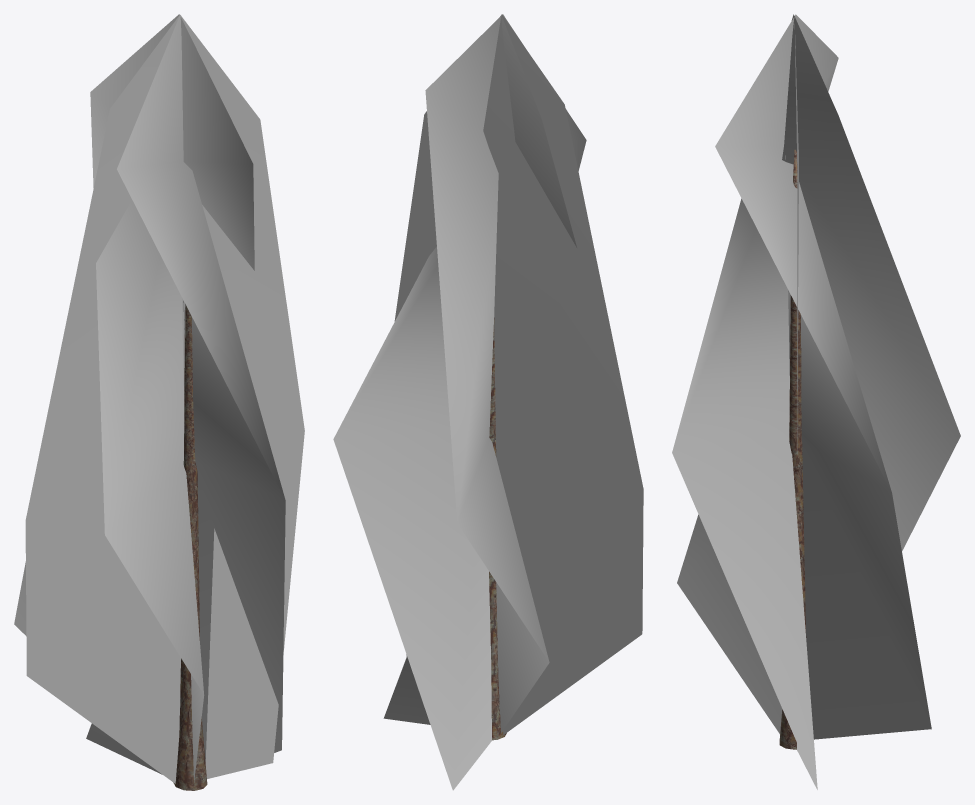
File: Fol_SprucePlateB.FBX
The picture shows the model from 3 angles, left to right: view 1: azimuth 30°, elevation 25°; view 2: azimuth 150°, elevation 25°; view 3: azimuth 270°, elevation 25°; orthographic projection. The views are drawn at different scales.
Visible parts, largest first — view 1: Spruce_Plate_2, Trunk; view 2: Spruce_Plate_2, Trunk; view 3: Spruce_Plate_2, Trunk.
Boxes of the visible parts, x1=… form: Spruce_Plate_2: x1=14, y1=14, x2=304, y2=783; Trunk: x1=173, y1=305, x2=207, y2=790; Spruce_Plate_2: x1=333, y1=14, x2=643, y2=790; Trunk: x1=489, y1=318, x2=506, y2=740; Spruce_Plate_2: x1=672, y1=14, x2=960, y2=789; Trunk: x1=779, y1=149, x2=806, y2=749.
Size of the model in its own units: 573 by 1502 by 543.
